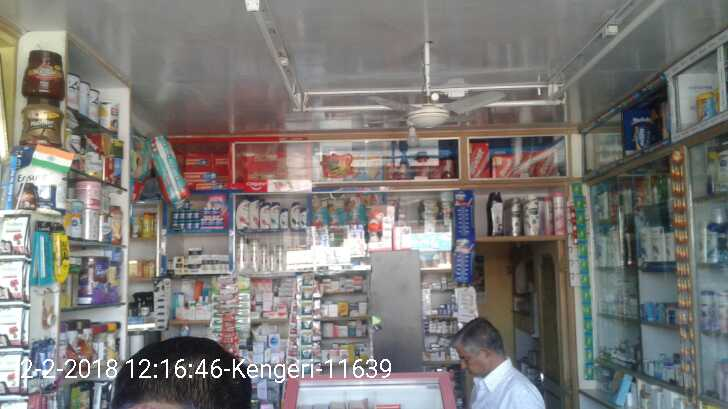beauty: (236, 194, 250, 228), (248, 237, 258, 271), (289, 202, 301, 229), (249, 198, 259, 228), (260, 203, 271, 230), (258, 241, 267, 273), (188, 247, 201, 264), (271, 201, 279, 228), (268, 242, 274, 274), (280, 205, 288, 228), (202, 253, 208, 274), (208, 254, 214, 272)
pharmacy: (328, 194, 361, 226), (310, 195, 328, 227), (173, 211, 198, 221), (213, 215, 224, 230), (198, 216, 206, 230), (206, 217, 213, 230)
